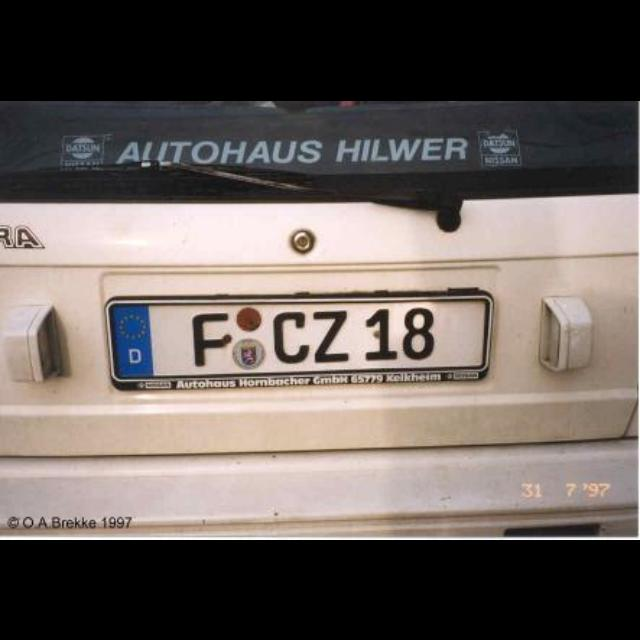d_license_plate: (104, 295, 490, 375)
